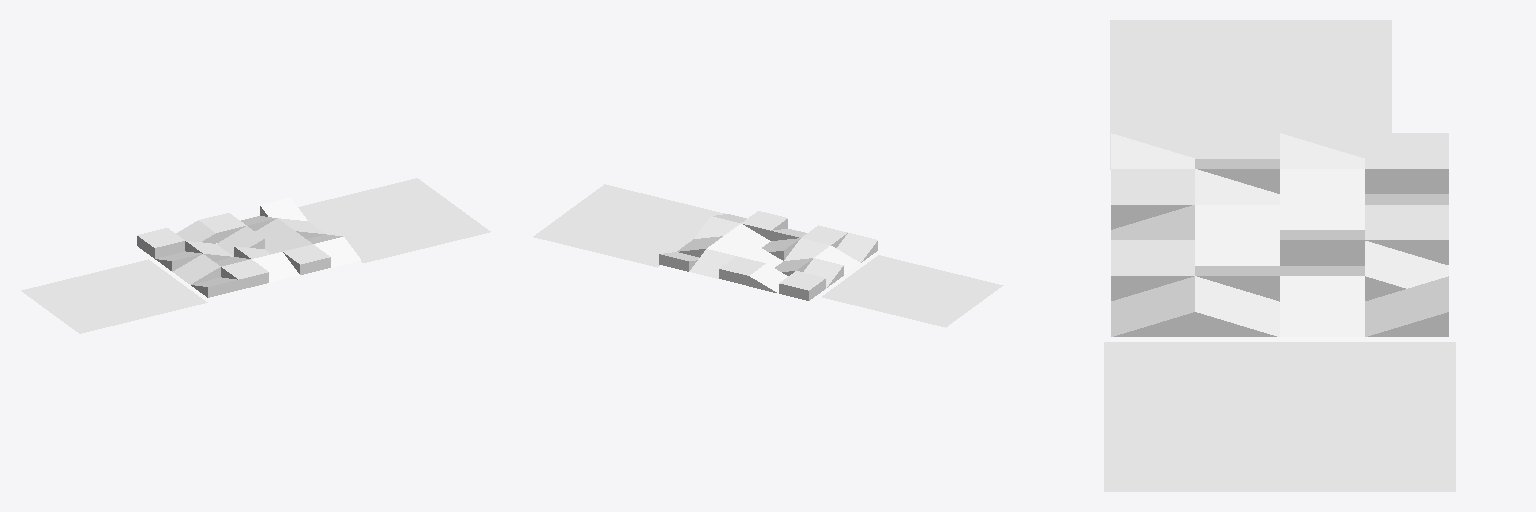
robot.urdf — chair:
<robot name="chair">
  <link name="base_link">
    <visual>
      <origin xyz="0 0 0" rpy="0 0 0" />
      <geometry>
        <mesh filename="package://hpp_environments/meshes/ori/modular_palet_low.stl"/>
      </geometry>
      <material name="white">
        <color rgba="1 1 1 1"/>
      </material>
    </visual>
    <collision>
      <origin xyz="0 0 0" rpy="0 0 0" />
      <geometry>
        <mesh filename="package://hpp_environments/meshes/ori/modular_palet_low.stl"/>
      </geometry>
    </collision>
  </link>
</robot>

--- Render facts (derived) ---
Views: 3 orthographic renders of the robot side by side, from view 1: azimuth 30°, elevation 25°; view 2: azimuth 150°, elevation 25°; view 3: azimuth 270°, elevation 25°.
Robot: chair — 1 links, 0 joints (none); root link base_link; default pose: all joints at 0.
Links seen in each view (by area): view 1: base_link; view 2: base_link; view 3: base_link.
Link boxes in pixels (left/top/right/bottom): base_link: left=21, top=178, right=490, bottom=333; base_link: left=533, top=184, right=1003, bottom=327; base_link: left=1104, top=20, right=1455, bottom=491.
Size in the robot's own frame: 3.2 by 1 by 0.115 metres.
Meshes: 1 distinct files referenced, 1 mesh visuals loaded (1 binary STL).
